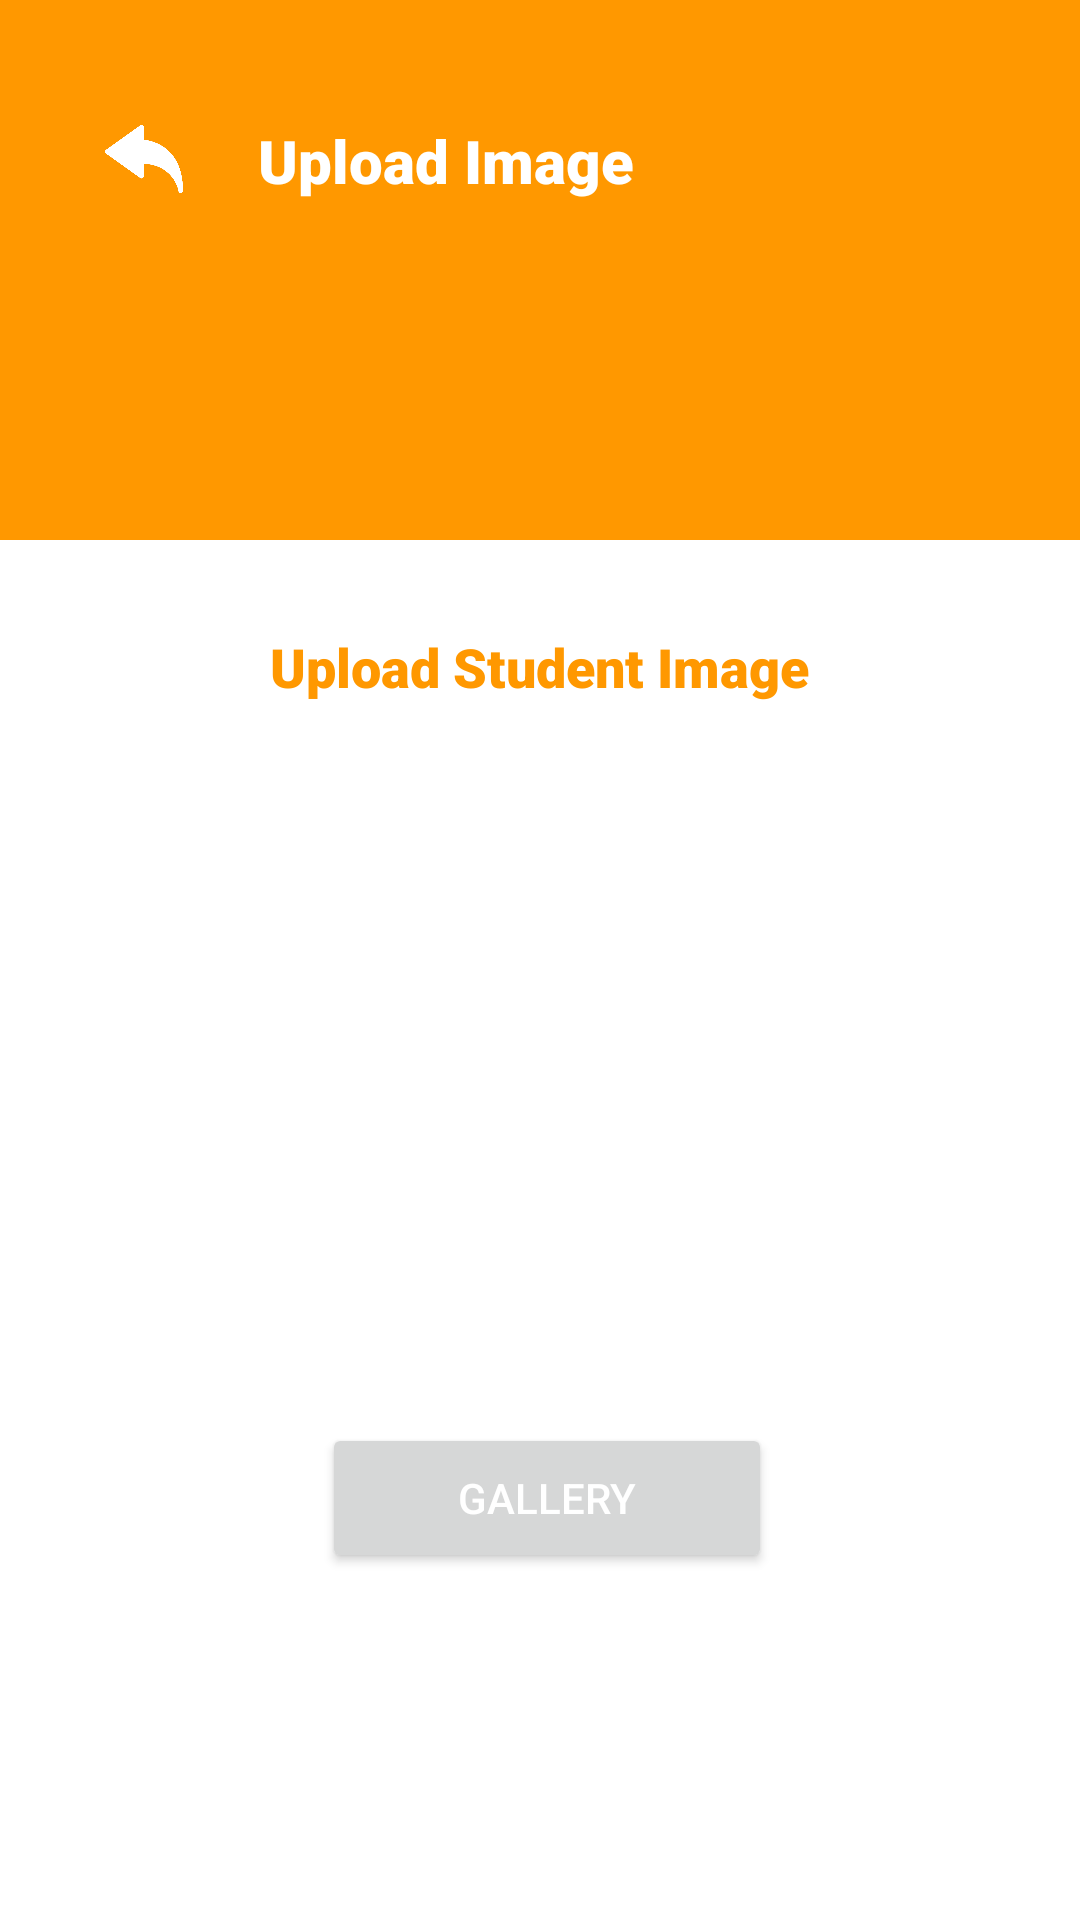

Where to tap for icons on this 1080px×1920px app screen, as point (x, y):
back: point (144, 159)
